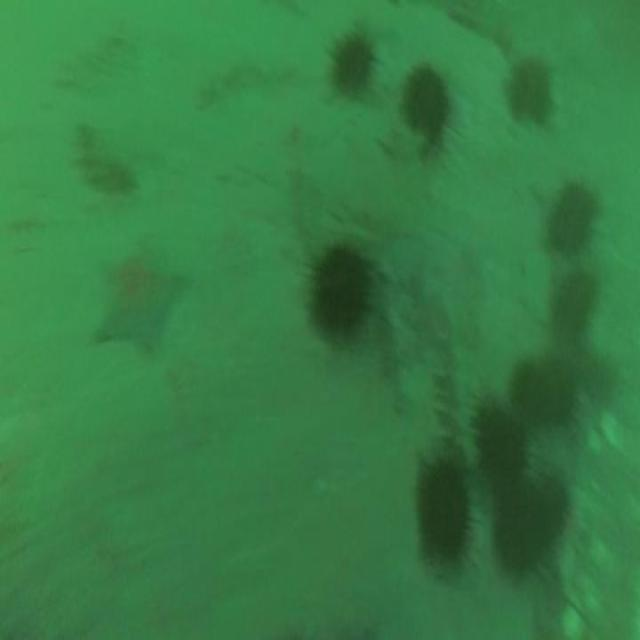echinus: (417, 458, 468, 569), (308, 248, 366, 338), (498, 472, 540, 574), (471, 403, 528, 477), (401, 62, 448, 142), (548, 180, 596, 255), (507, 57, 552, 125), (328, 33, 372, 95), (508, 358, 548, 426), (540, 352, 578, 423), (550, 272, 594, 333), (535, 468, 569, 544)
holothurian: (425, 292, 481, 468), (74, 120, 133, 193)
starfish: (96, 254, 190, 356)
